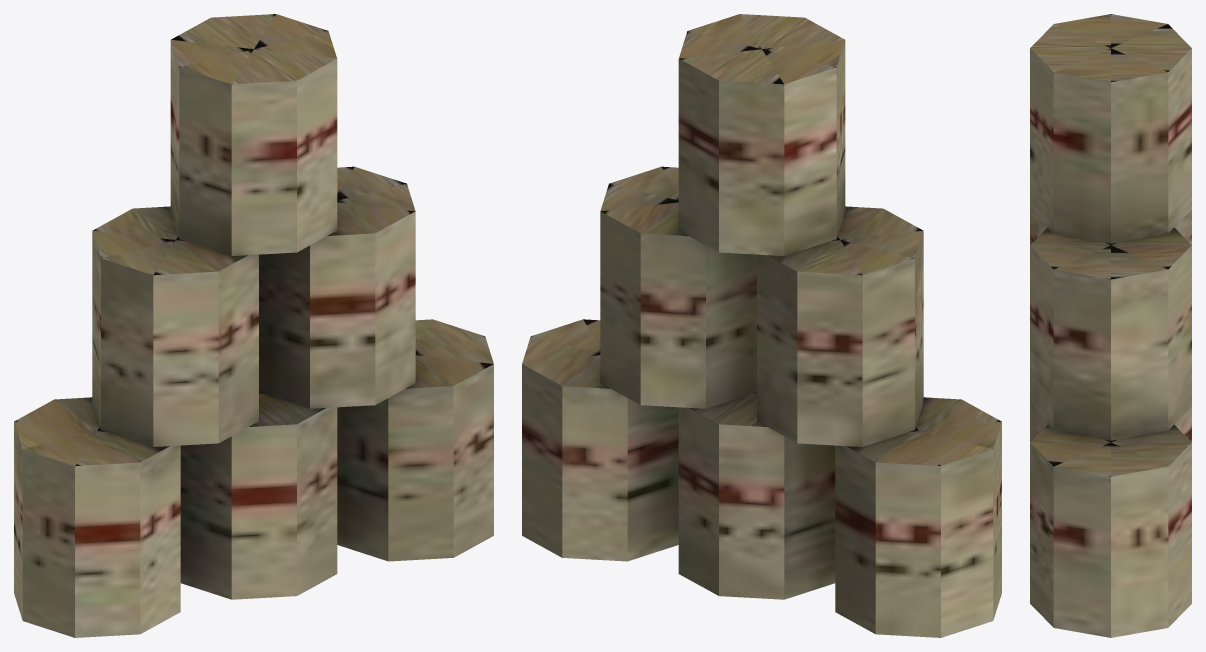
The model's file is can_stack_lod1_web.glb.
3 renders of one model, left to right at view 1: azimuth 30°, elevation 25°; view 2: azimuth 150°, elevation 25°; view 3: azimuth 270°, elevation 25°, orthographic. The views are drawn at different scales.
Parts seen in each view (by area): view 1: CanStack_Body; view 2: CanStack_Body; view 3: CanStack_Body.
Boxes of the visible parts, x1,y1,x2,y2 form: CanStack_Body: (14,14,493,637); CanStack_Body: (522,14,1001,637); CanStack_Body: (1030,14,1191,637).
Size of the model in its own units: 0.31 by 0.33 by 0.1.
Materials: 1 (1 with a texture image).
